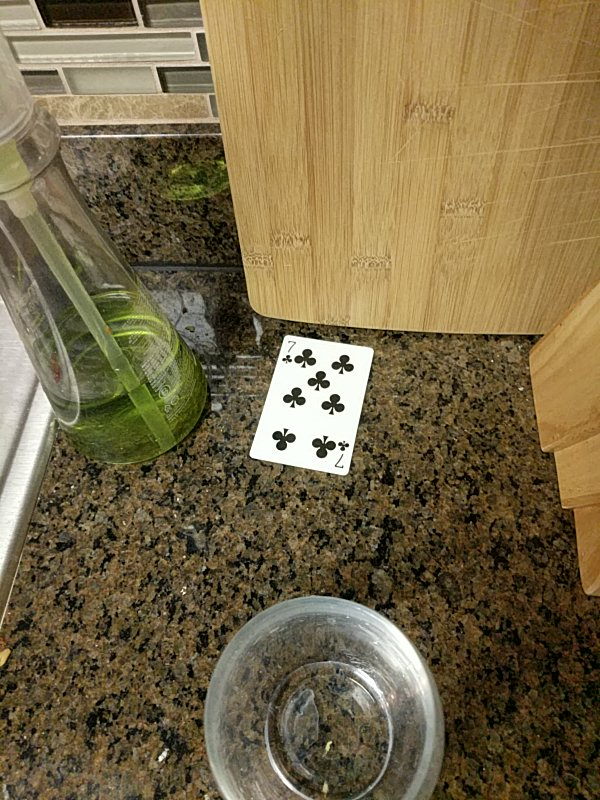Clubs: (249, 332, 374, 480)
